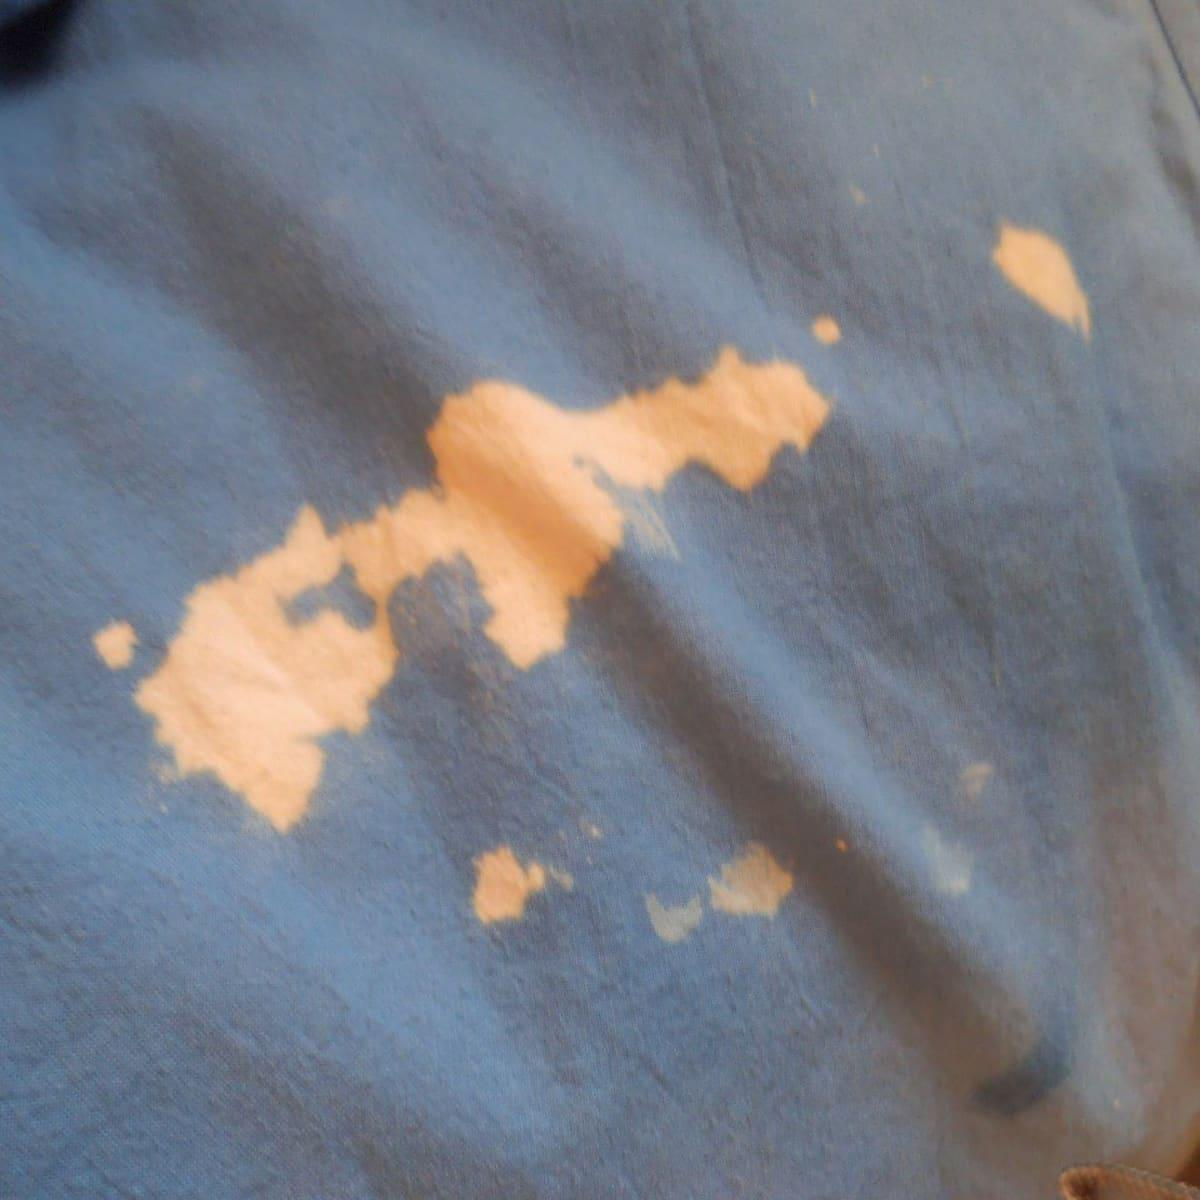gun: (63, 315, 831, 803), (986, 207, 1090, 332), (647, 868, 822, 940), (459, 838, 566, 943)
